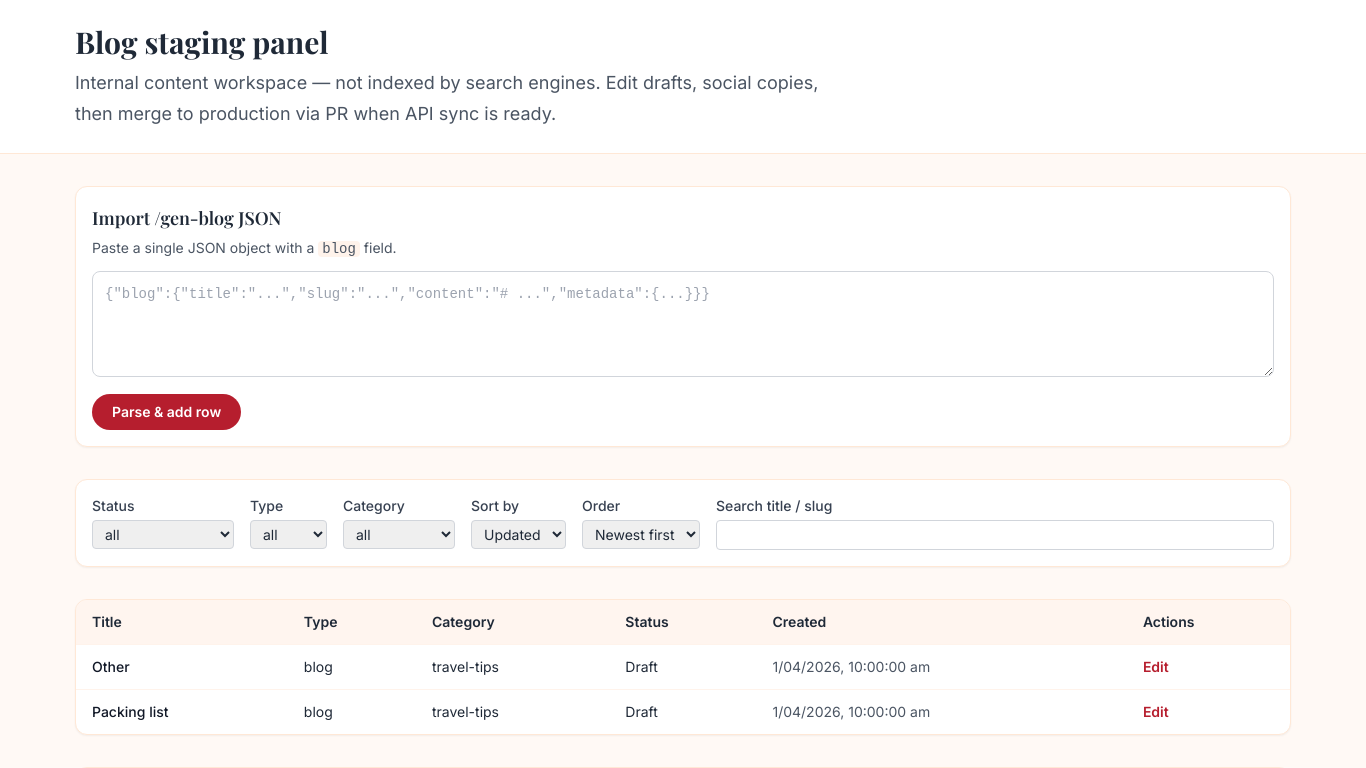
Test case: StagingPanel › filters by search on title
Step 1. Type "Packing" into the field named "Search by title or slug" → [995, 535], box left=716, top=520, right=1274, bottom=550
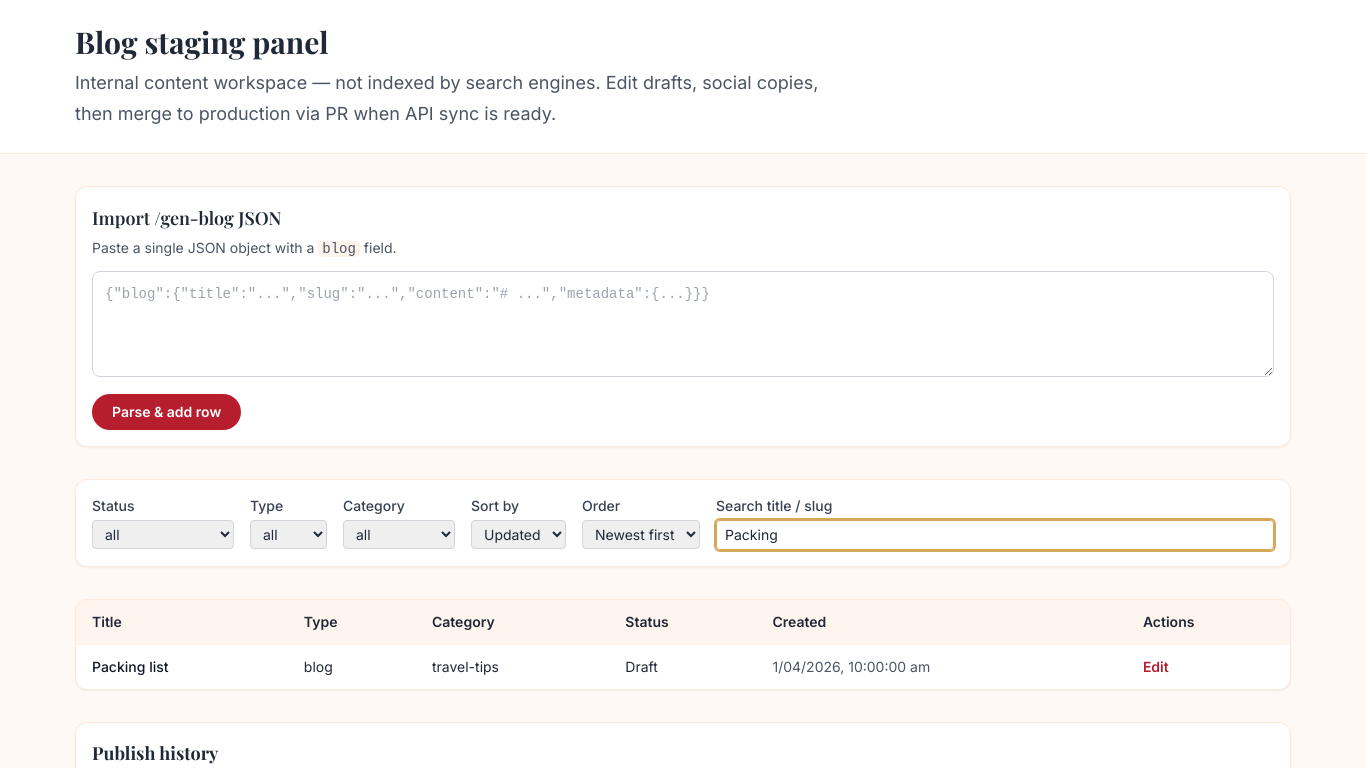
Check: the text "Packing list" is shown, box left=76, top=645, right=288, bottom=689
Check: the text "Other" is gone
